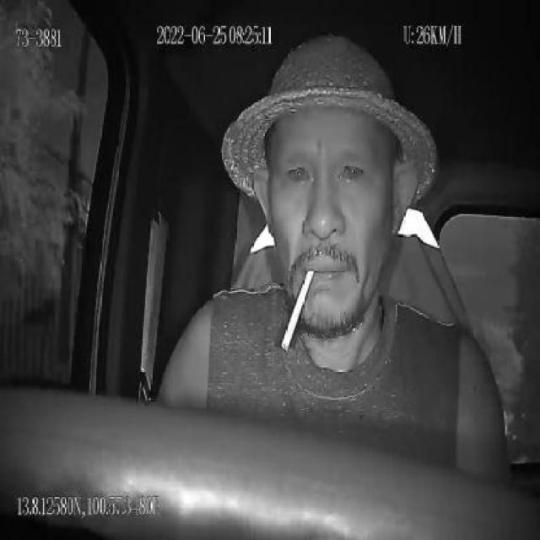smoking: (280, 268, 317, 349)
